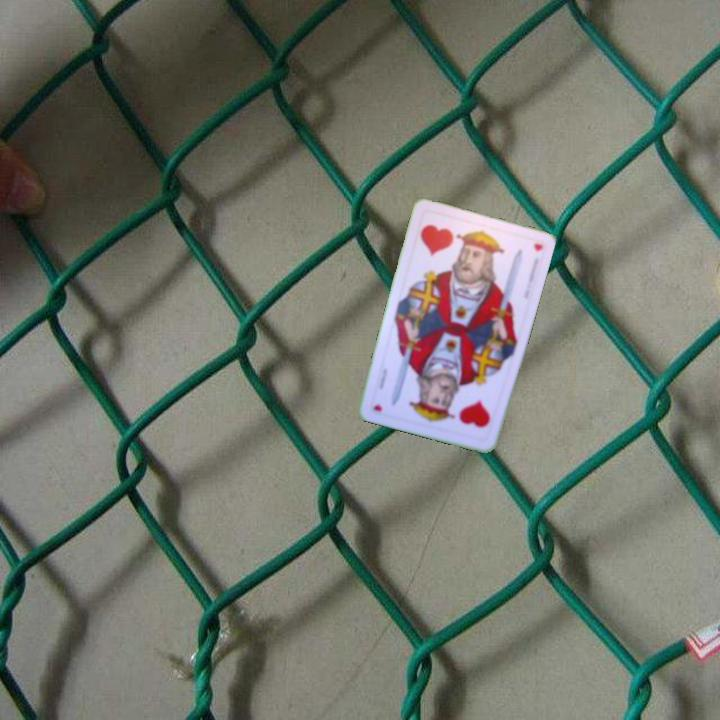h_k.png: (426, 372, 505, 444), (408, 208, 486, 280)
